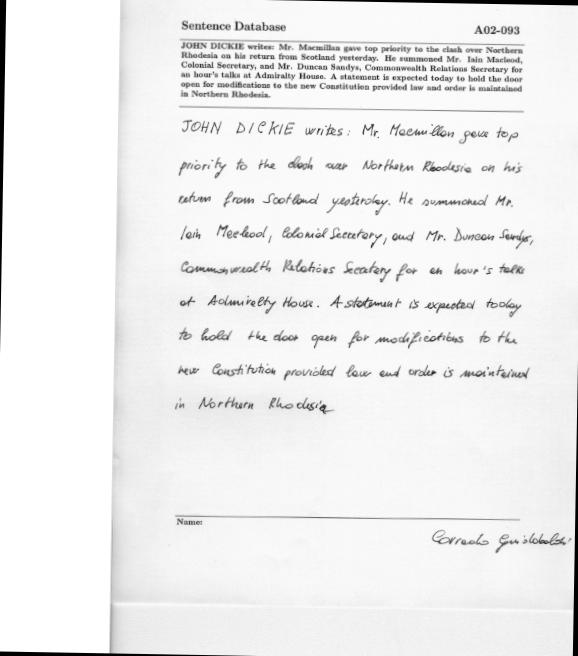text: (175, 185, 516, 221), (174, 150, 524, 184), (176, 219, 536, 252), (180, 254, 526, 288), (177, 323, 518, 355), (174, 356, 530, 386), (176, 292, 522, 322), (179, 116, 520, 146), (178, 76, 523, 96), (179, 48, 523, 66), (178, 66, 522, 84), (180, 58, 522, 75), (178, 40, 524, 55), (429, 527, 574, 556), (172, 394, 336, 417), (180, 18, 288, 33), (178, 88, 271, 100), (471, 22, 521, 36), (173, 517, 203, 527)
